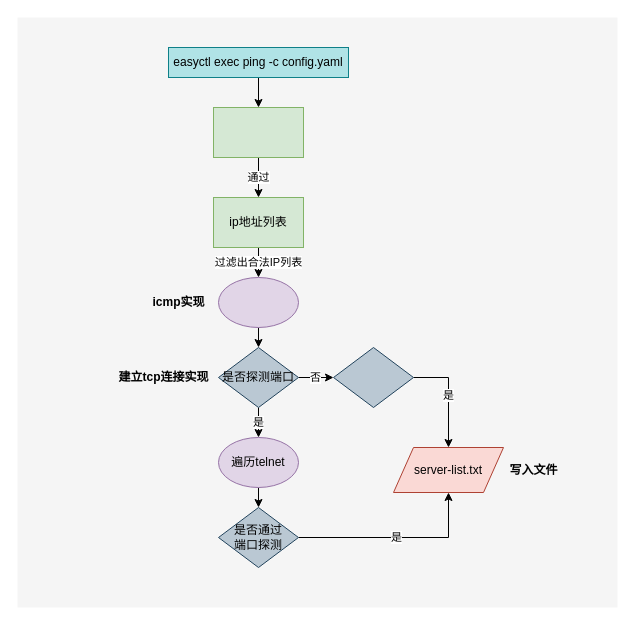
Image size: 634x624. Some labels were removed from this diagram. Each missing label, with the centre of its shape:
"是否通过ping检测" goes at pixel 373 377.
"遍历ping" goes at pixel 258 302.
"配置合法性检测" goes at pixel 258 132.
